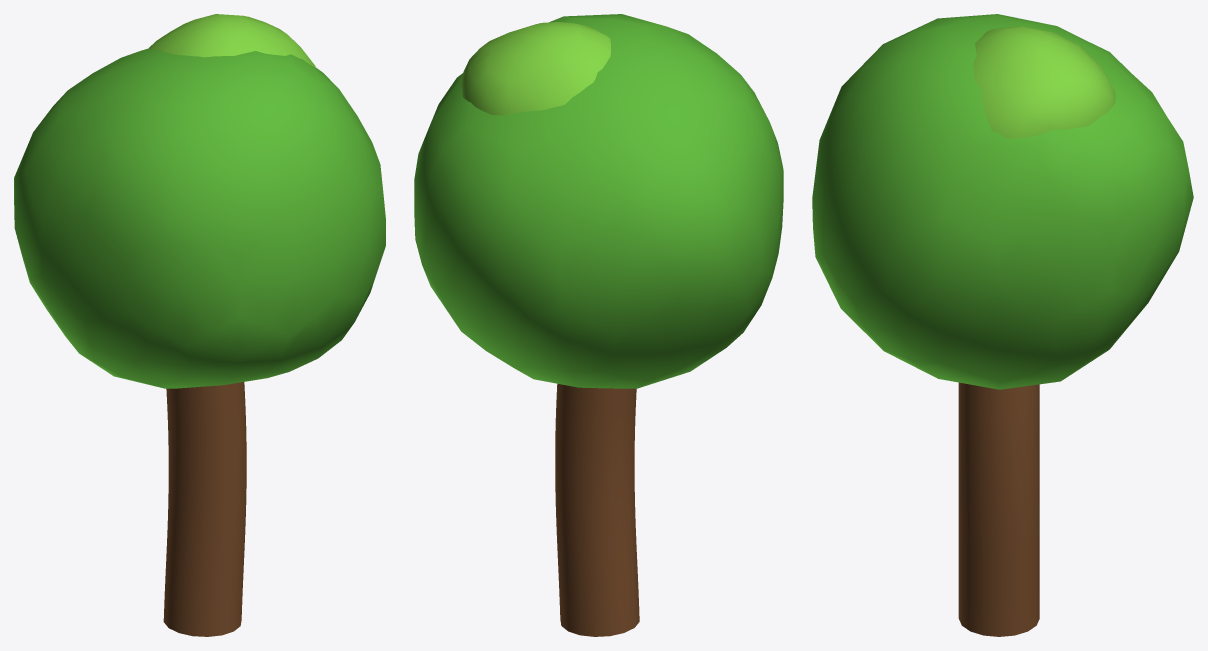
Rendered from tree_round.glb.
3 views of the same model, side by side, from view 1: azimuth 30°, elevation 25°; view 2: azimuth 150°, elevation 25°; view 3: azimuth 270°, elevation 25° (orthographic). The views are drawn at different scales.
Parts seen in each view (by area): view 1: tree_round; view 2: tree_round; view 3: tree_round.
Boxes of the visible parts, x1=… form: tree_round: x1=14, y1=14, x2=385, y2=636; tree_round: x1=414, y1=14, x2=783, y2=636; tree_round: x1=812, y1=14, x2=1193, y2=636.
Size of the model in its own units: 3.15 by 5.57 by 3.21.
